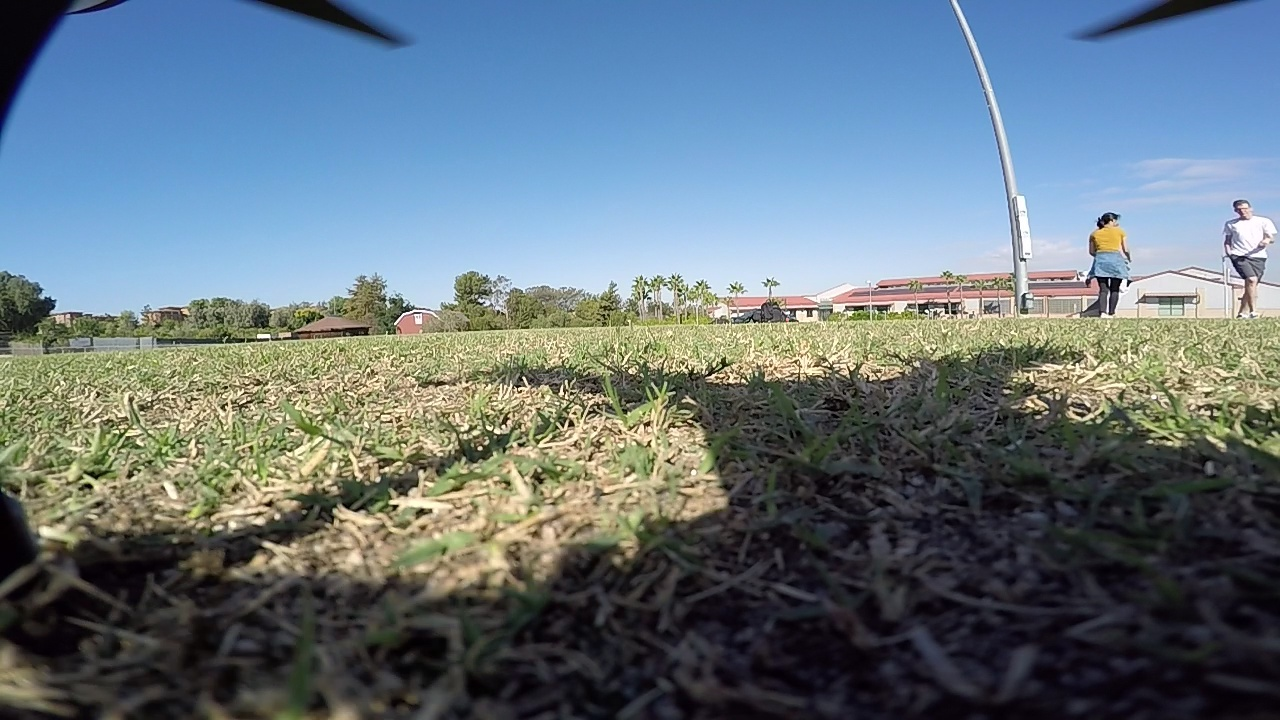person: (1222, 189, 1272, 314), (1084, 199, 1136, 310)
